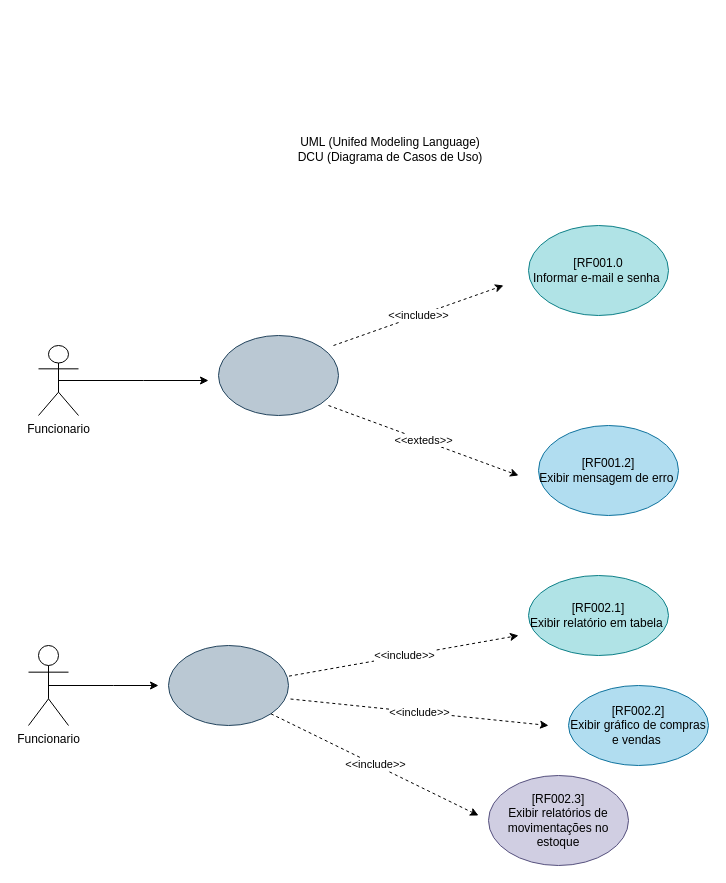
The diagram is 726 pixels wide and 883 high, and some of its shapes have lost their labels. Each missing label, with the box of its shape:
[RF001] Fazer login: (218, 334, 338, 416)
[RF002] Fazer Dashboart: (168, 644, 288, 726)
